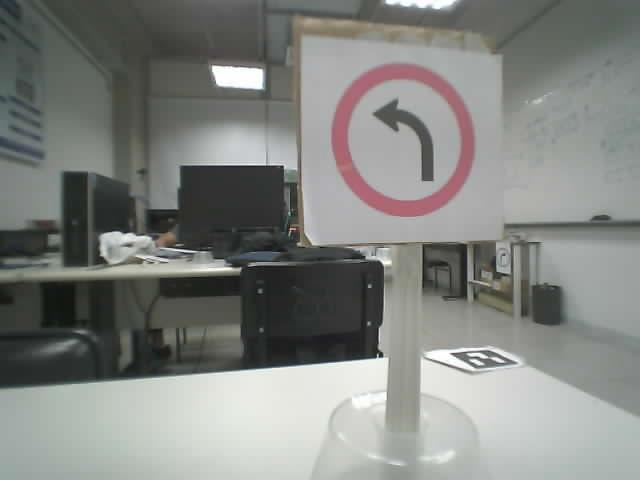R-25a_esquerda: (328, 61, 475, 216)
